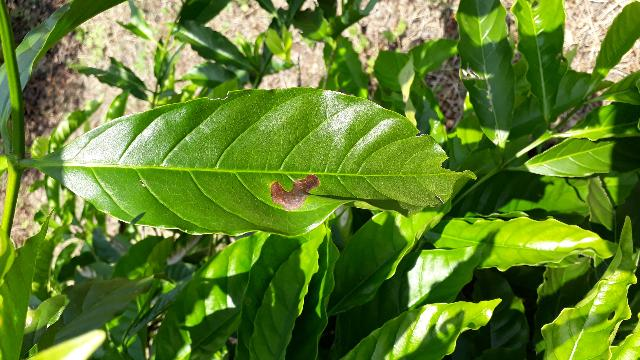red_spider_mite: (36, 85, 484, 242)
